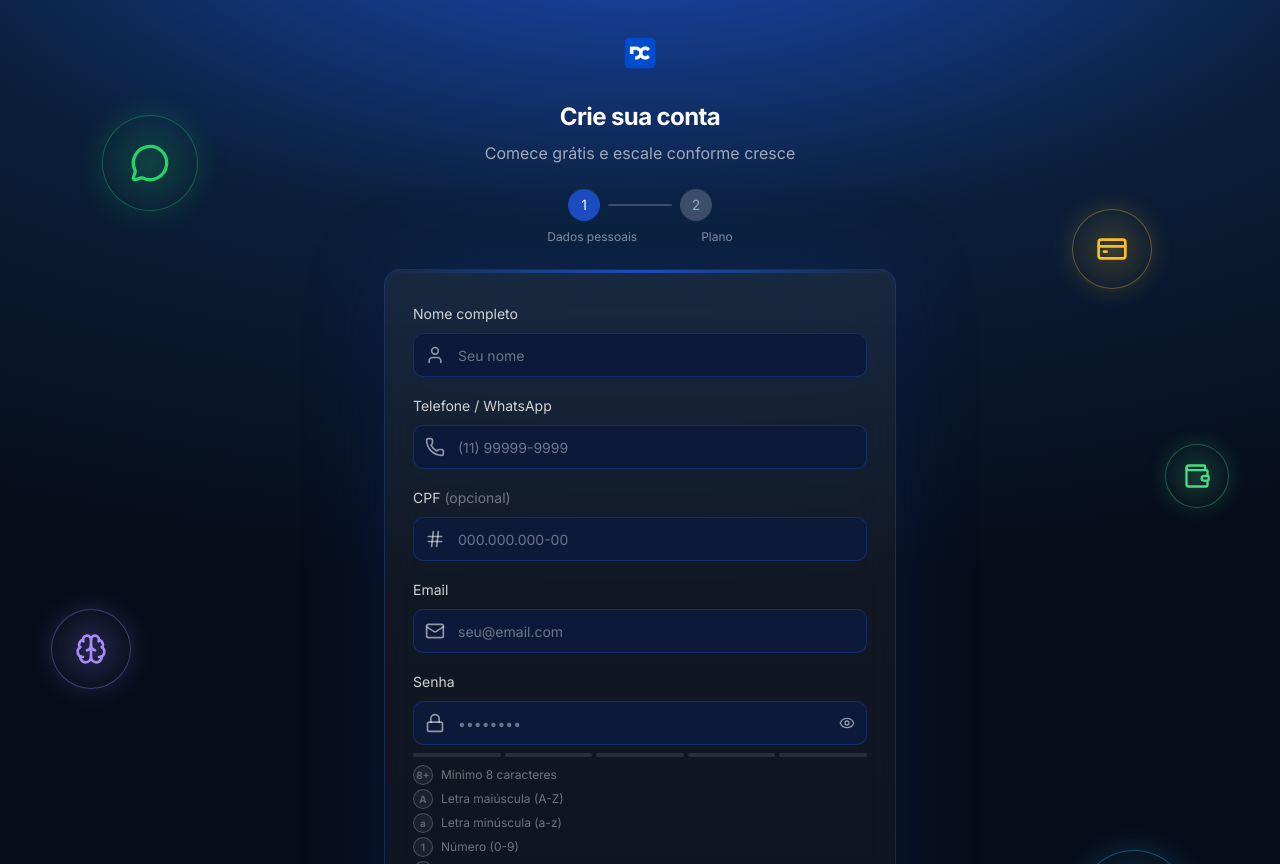
Scenario: Cadastro Page › should validate email field
The width and height of the screenshot is (1280, 864).
Type "email-invalido" into the field labelled "Email".
click(640, 631); type("email-invalido")  # box left=413, top=609, right=867, bottom=653
(page scrolled)
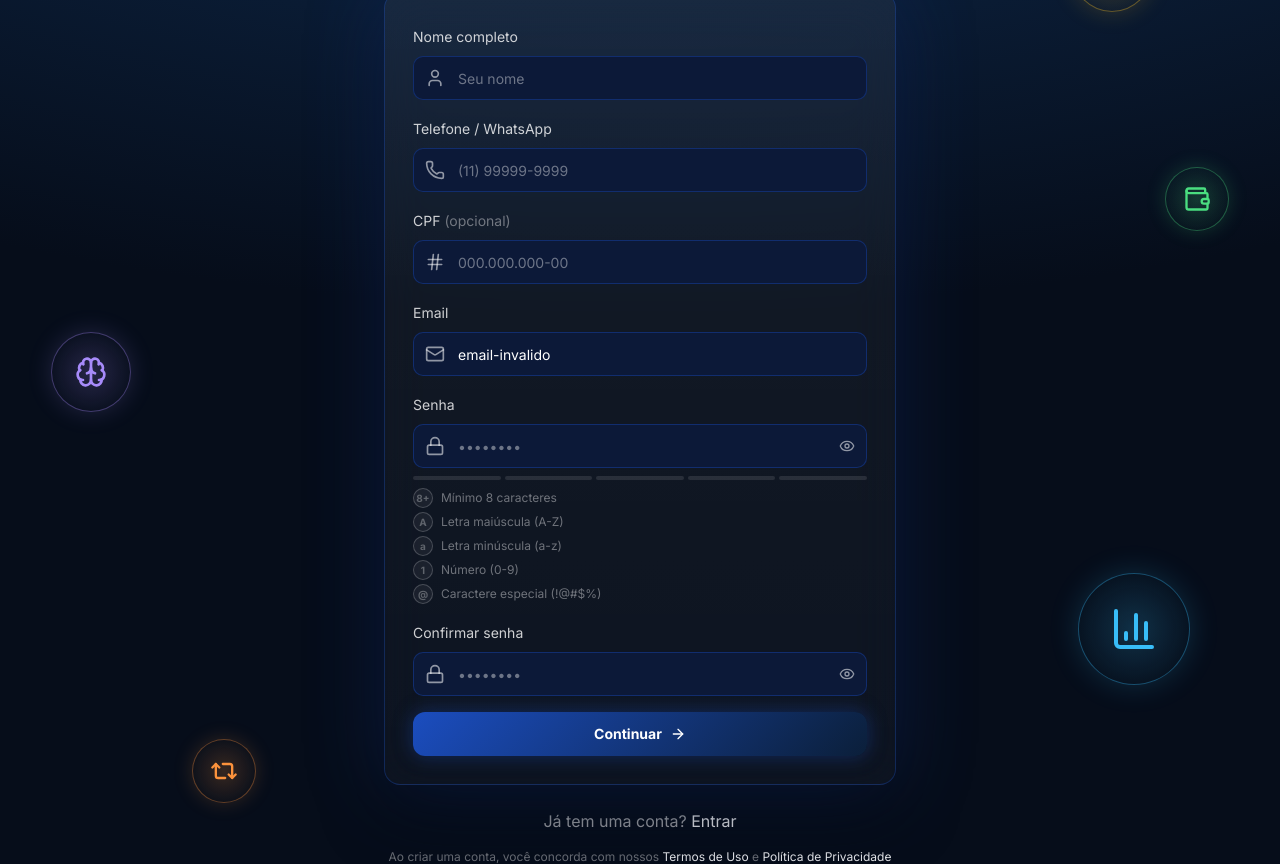
Click the button "Continuar".
click(640, 734)  # box left=413, top=712, right=867, bottom=756
(page scrolled)
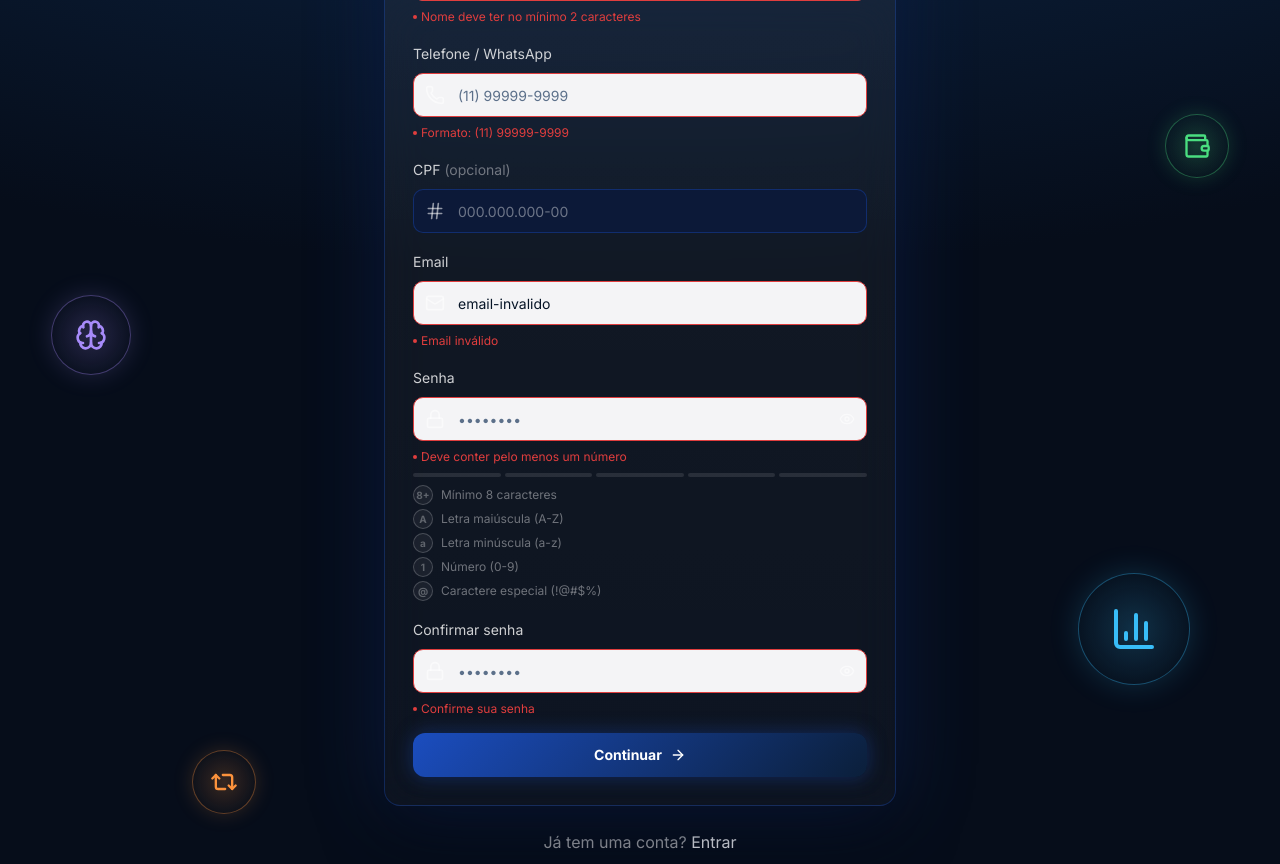
Now the text "Email inválido" is shown, box left=413, top=333, right=498, bottom=348
